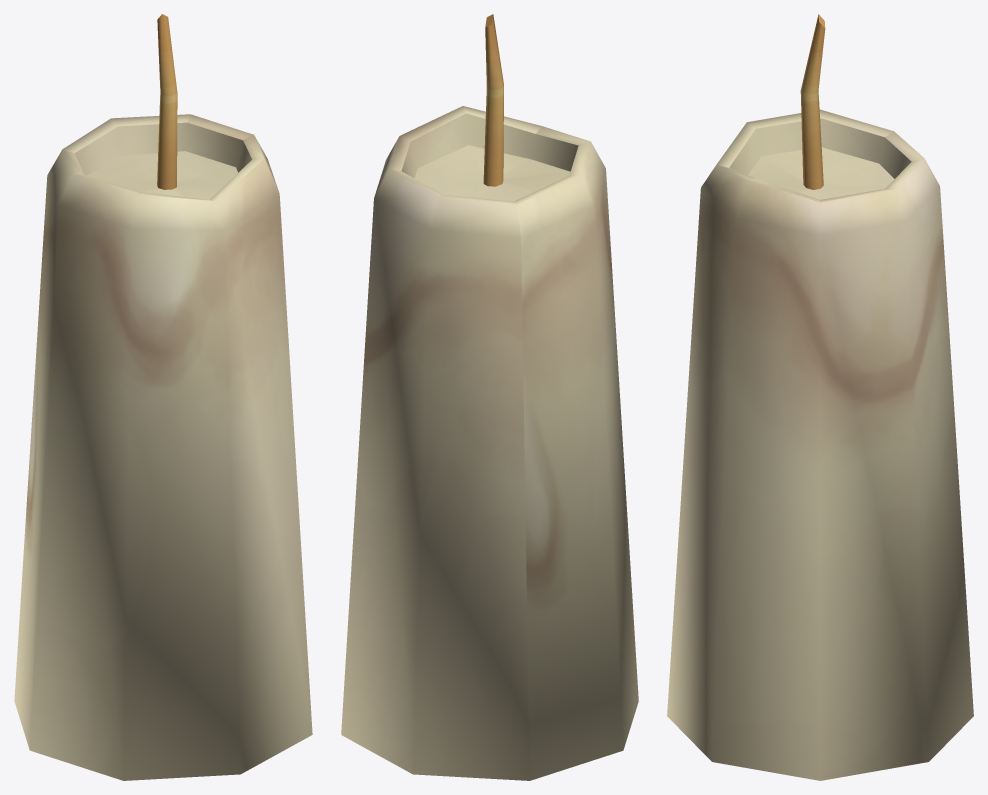
The model's file is CandleThin.fbx.
3 renders of one model, left to right at view 1: azimuth 30°, elevation 25°; view 2: azimuth 150°, elevation 25°; view 3: azimuth 270°, elevation 25°, orthographic.
Parts seen in each view (by area): view 1: CandleThin; view 2: CandleThin; view 3: CandleThin.
Boxes of the visible parts, box(x1,y1,x2,y2) form: CandleThin: box(14, 14, 312, 780); CandleThin: box(341, 14, 638, 780); CandleThin: box(667, 14, 973, 780).
Size of the model in its own units: 6.69 by 16.87 by 6.69.
